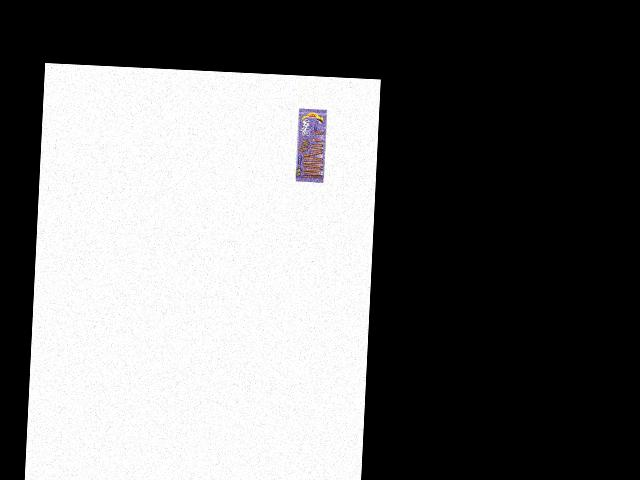chocolate: (294, 107, 331, 184)
